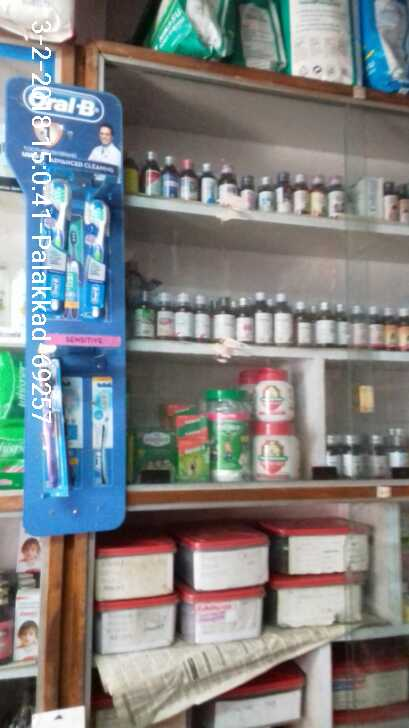oralb: (81, 176, 111, 318)
